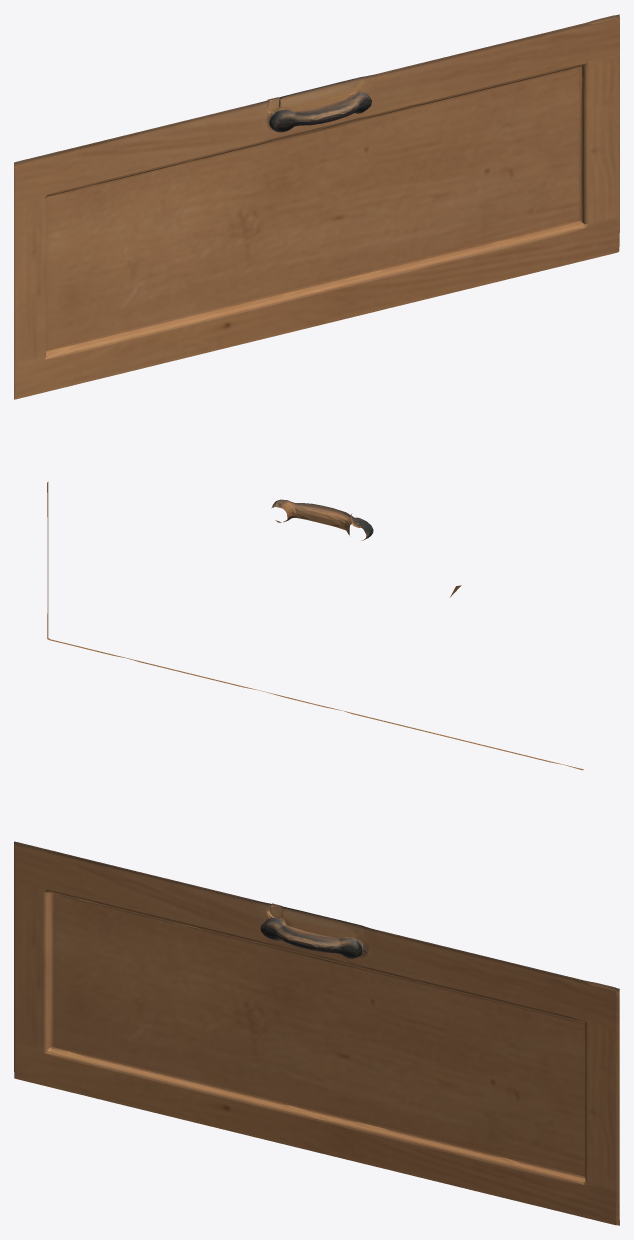
Rendered from door_lower.glb.
3 views of the same model, one above another, from view 1: azimuth 30°, elevation 25°; view 2: azimuth 150°, elevation 25°; view 3: azimuth 330°, elevation 25° (orthographic).
Visible parts, largest first — view 1: source_surface_0; view 2: source_surface_0; view 3: source_surface_0.
Part boxes in pixels (x1,y1,x2,y2): source_surface_0: (14, 14, 619, 399); source_surface_0: (47, 481, 583, 770); source_surface_0: (14, 841, 619, 1225).
Size of the model in its own units: 0.8075 by 0.3021 by 0.0403.
1 material, 1 textured.
